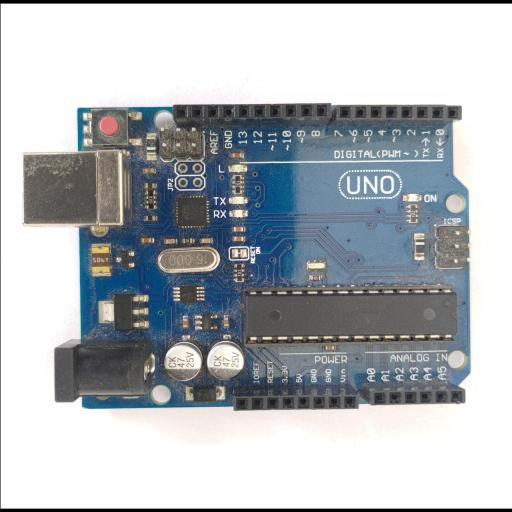Arduino Uno R3: (22, 102, 472, 411)
